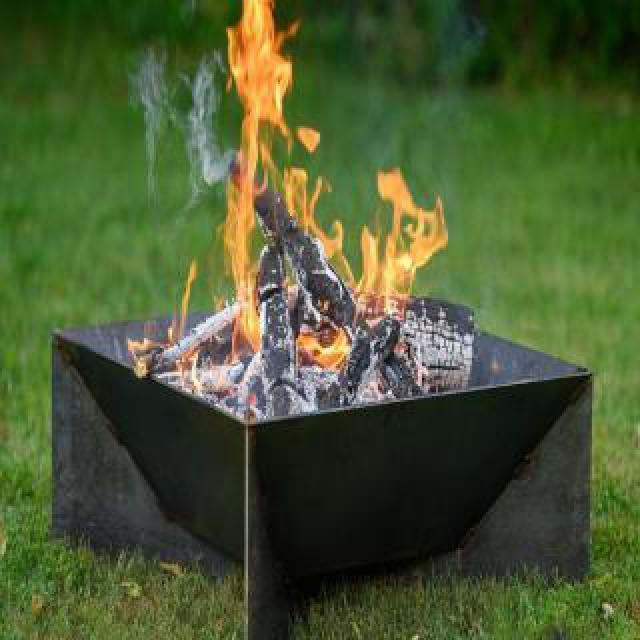Fire: (220, 10, 450, 380)
Smoke: (126, 28, 222, 218)
